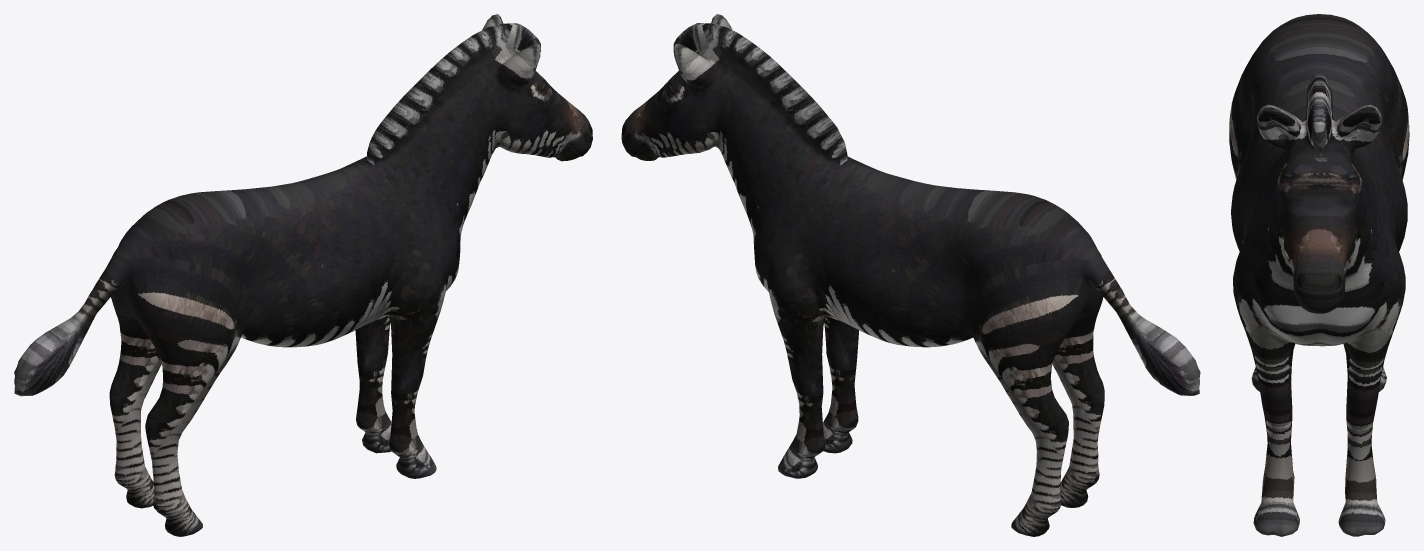
File: zebra.glb
3 renders of one model, left to right at view 1: azimuth 30°, elevation 25°; view 2: azimuth 150°, elevation 25°; view 3: azimuth 270°, elevation 25°, orthographic. The views are drawn at different scales.
Parts seen in each view (by area): view 1: geometry_0; view 2: geometry_0; view 3: geometry_0.
Boxes of the visible parts, x1=… form: geometry_0: x1=14, y1=14, x2=592, y2=536; geometry_0: x1=621, y1=14, x2=1200, y2=536; geometry_0: x1=1229, y1=14, x2=1409, y2=536.
Size of the model in its own units: 2.4 by 1.63 by 0.5293.
Materials: 1 (1 with a texture image).
